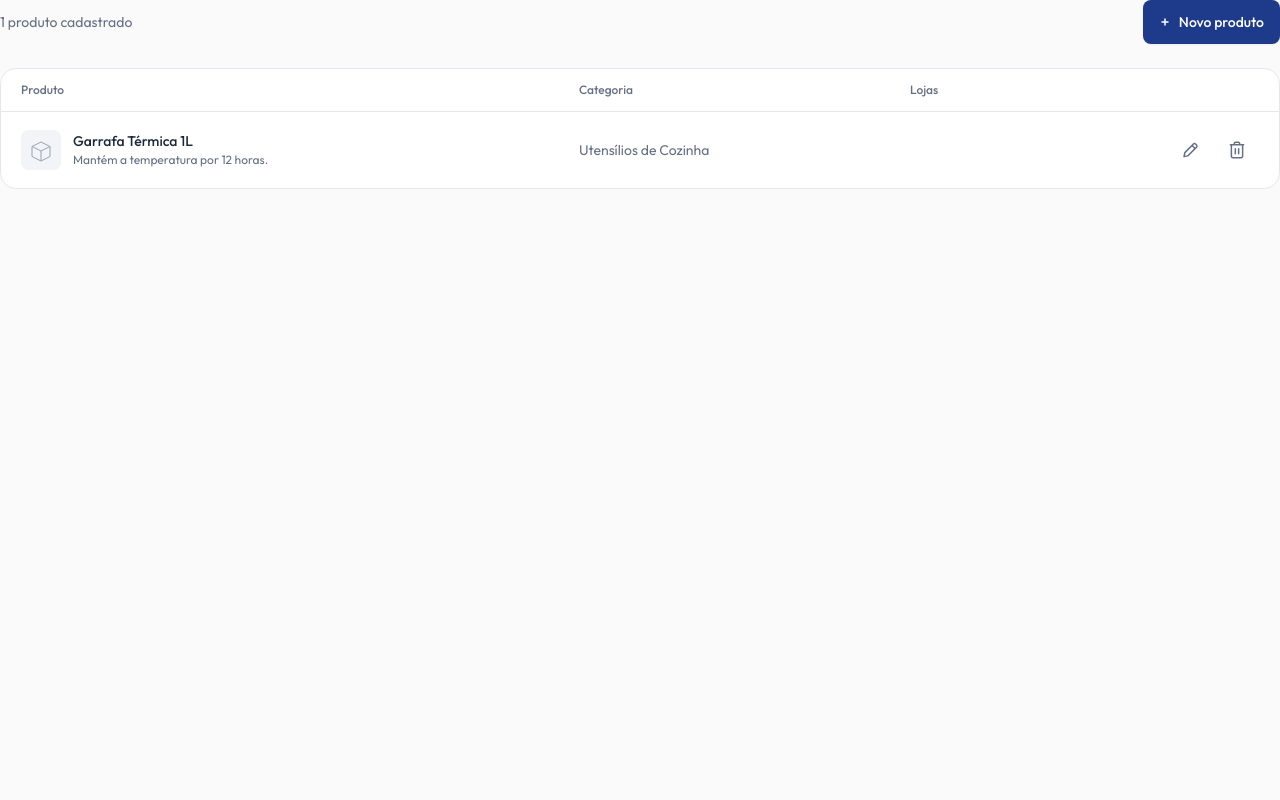
ProductAdminPanel › blocks a second confirmation while the product is being deleted
Click the button named "Apagar Garrafa Térmica 1L" at (1237, 150), box [1215, 128, 1259, 172]
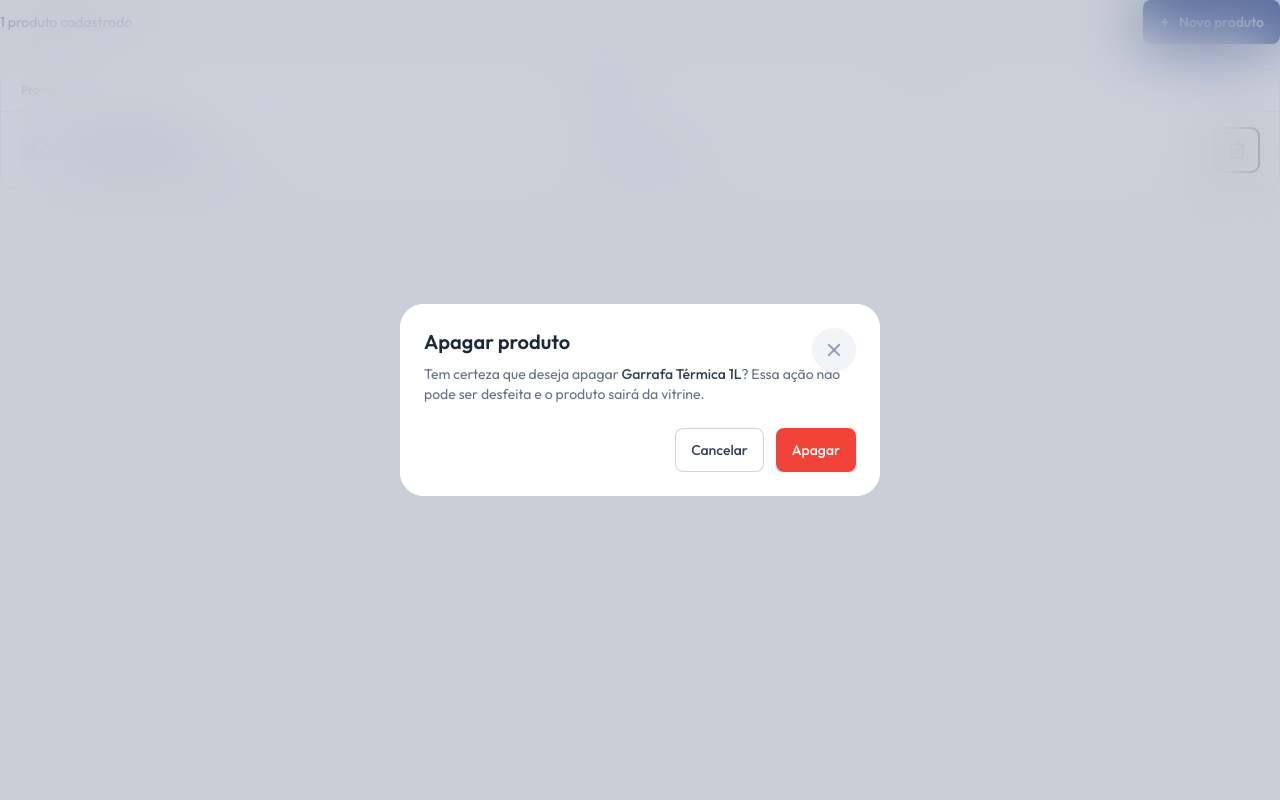
Click the button "Apagar" at (816, 450), box [776, 428, 856, 472]
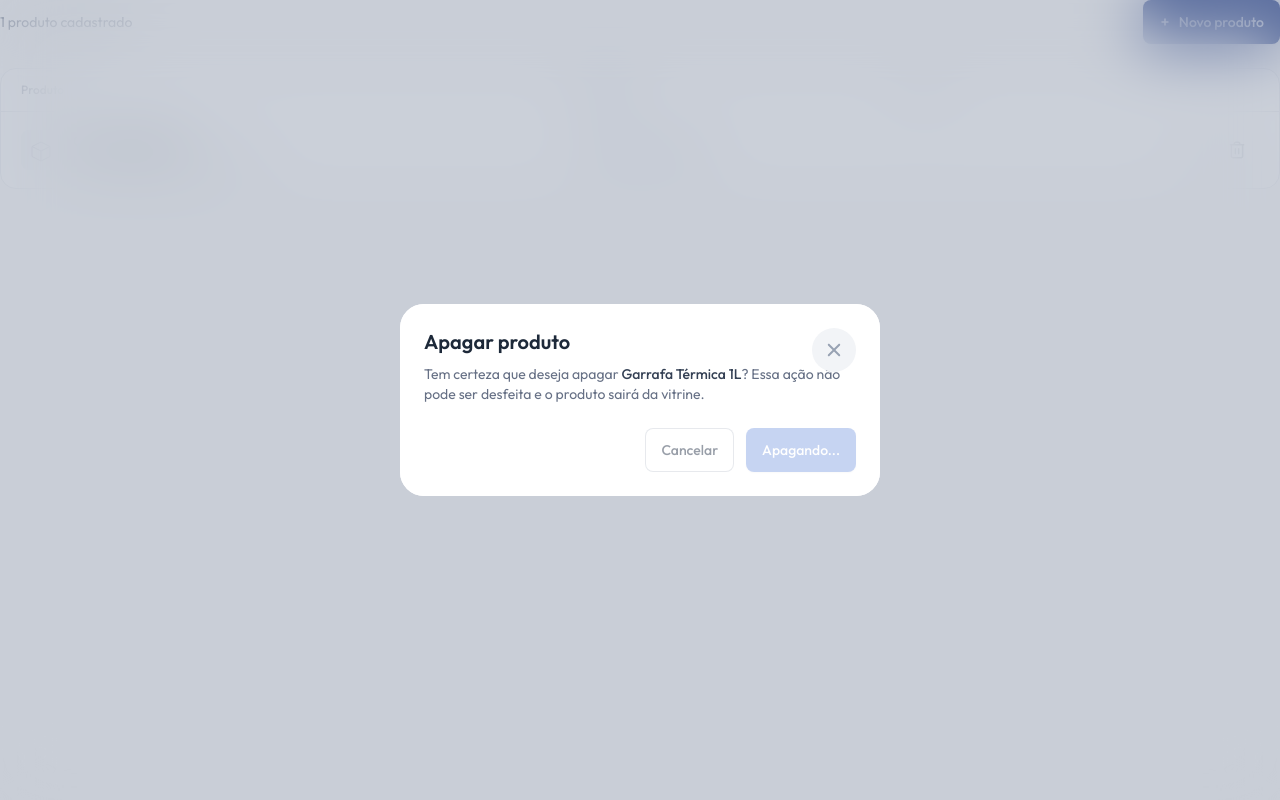
Check: the button "Apagando..." is disabled, box [746, 428, 856, 472]
